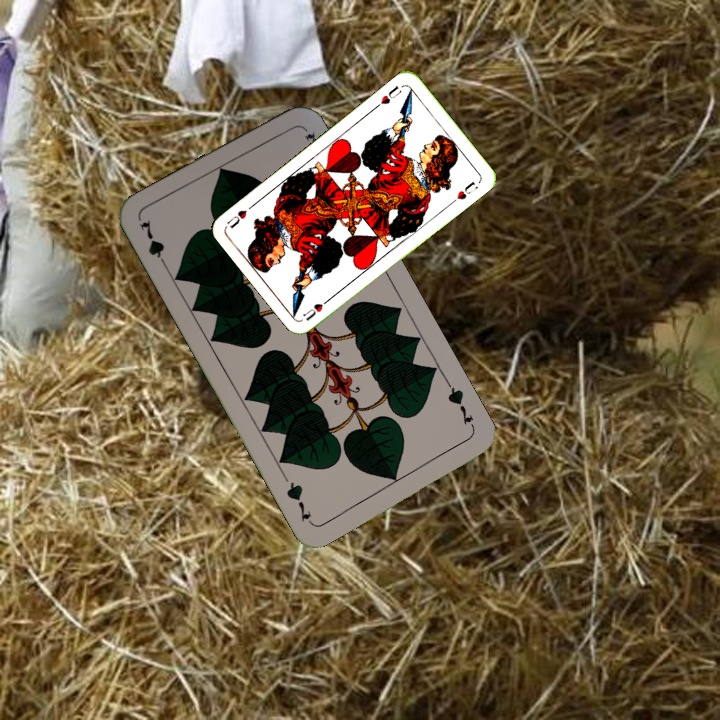G7: (135, 215, 171, 272), (443, 378, 478, 433)
HU: (299, 294, 334, 324), (371, 81, 404, 111)
